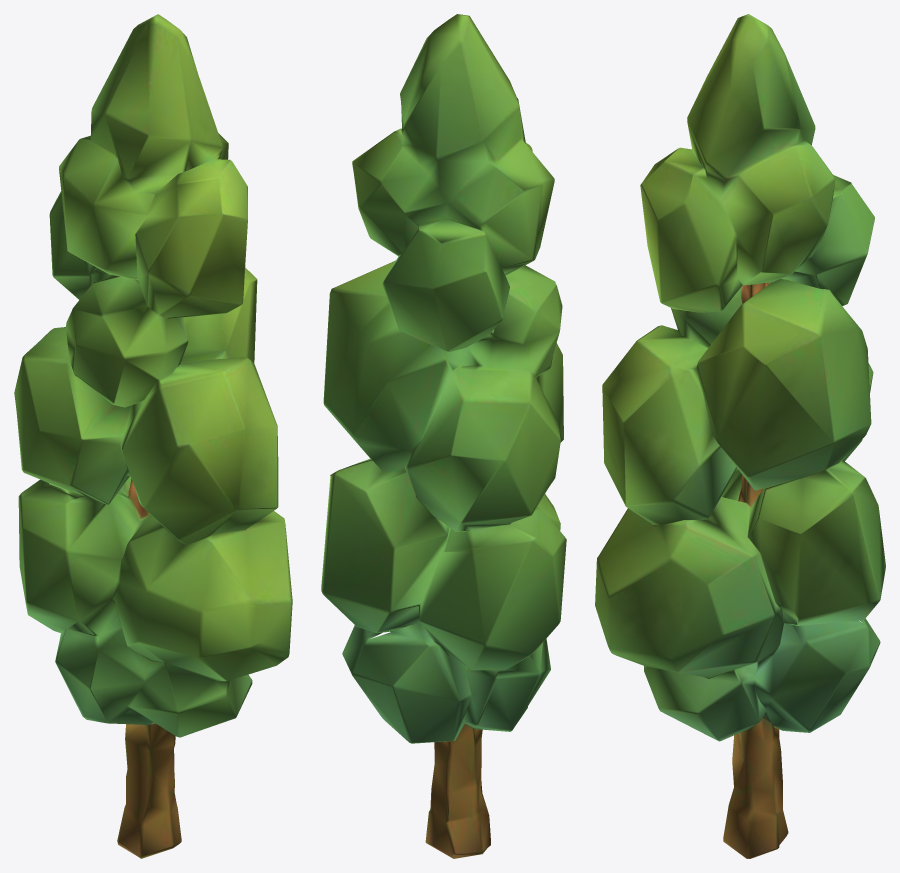
Rendered from poplar_tripo_qc.glb.
3 renders of one model, left to right at view 1: azimuth 30°, elevation 25°; view 2: azimuth 150°, elevation 25°; view 3: azimuth 270°, elevation 25°, orthographic.
Visible parts, largest first — view 1: tripo_node_c11009c5-eccf-4a4d-9225-196b81e4d98a; view 2: tripo_node_c11009c5-eccf-4a4d-9225-196b81e4d98a; view 3: tripo_node_c11009c5-eccf-4a4d-9225-196b81e4d98a.
Part boxes in pixels (bbox=[...]): tripo_node_c11009c5-eccf-4a4d-9225-196b81e4d98a: bbox=[14, 14, 292, 858]; tripo_node_c11009c5-eccf-4a4d-9225-196b81e4d98a: bbox=[321, 14, 566, 858]; tripo_node_c11009c5-eccf-4a4d-9225-196b81e4d98a: bbox=[595, 14, 885, 858].
Size of the model in its own units: 9.23 by 33 by 10.4.
Materials: 1 (1 with a texture image).
